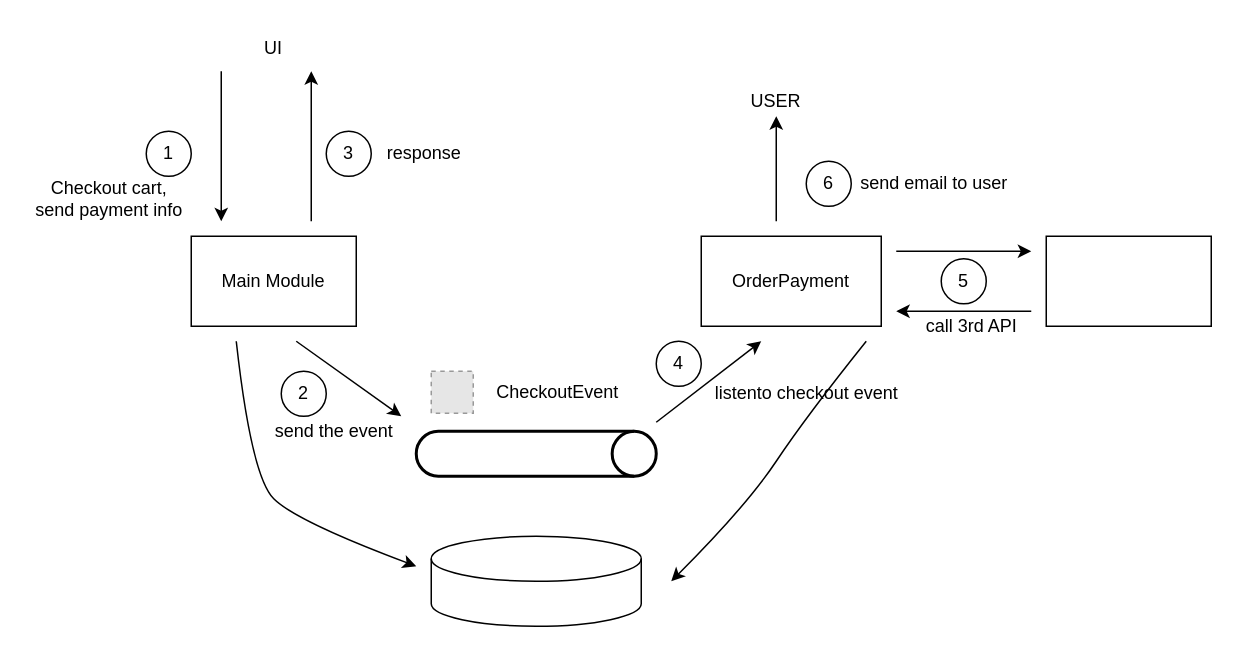
This 1238x653 diagram has some shape labels left out. Grey dashed boxes stand in for pictures. Each missing label, with the centre of its shape:
DB: the point at 535,580
Message Broker: the point at 535,453
Paypal API: the point at 1128,280
